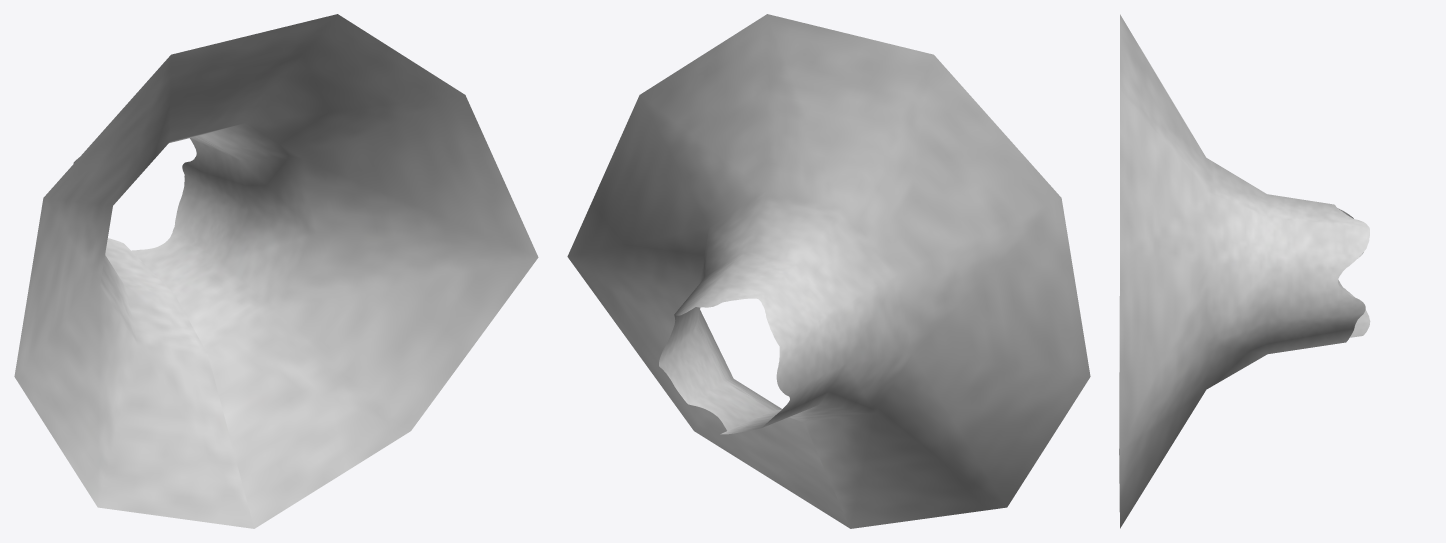
Rendered from _Snow_pit.fbx.
3 views of the same model, side by side, from view 1: azimuth 30°, elevation 25°; view 2: azimuth 150°, elevation 25°; view 3: azimuth 270°, elevation 25° (orthographic). The views are drawn at different scales.
Visible parts, largest first — view 1: Snow_pit; view 2: Snow_pit; view 3: Snow_pit.
Boxes of the visible parts, bbox=[...] form: Snow_pit: bbox=[14, 14, 538, 528]; Snow_pit: bbox=[567, 14, 1090, 528]; Snow_pit: bbox=[1119, 14, 1370, 528].
Bounding box in the file's own units: 4.63 × 4.18 × 2.57.
